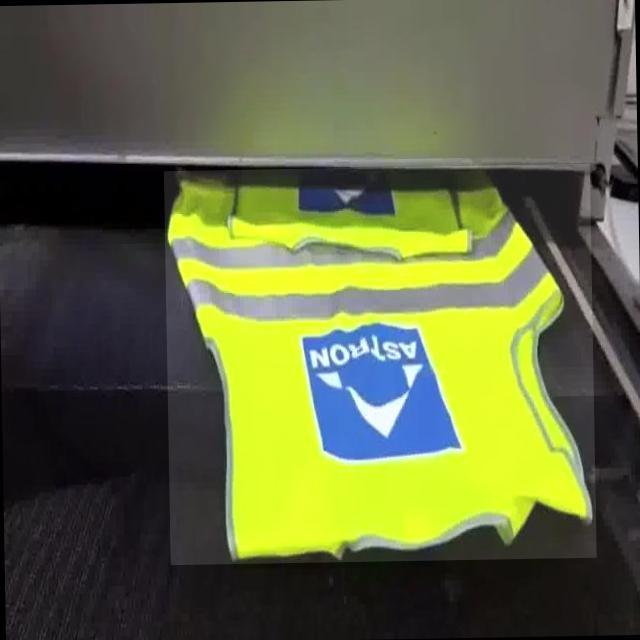Safety Vest: (164, 164, 597, 565)
